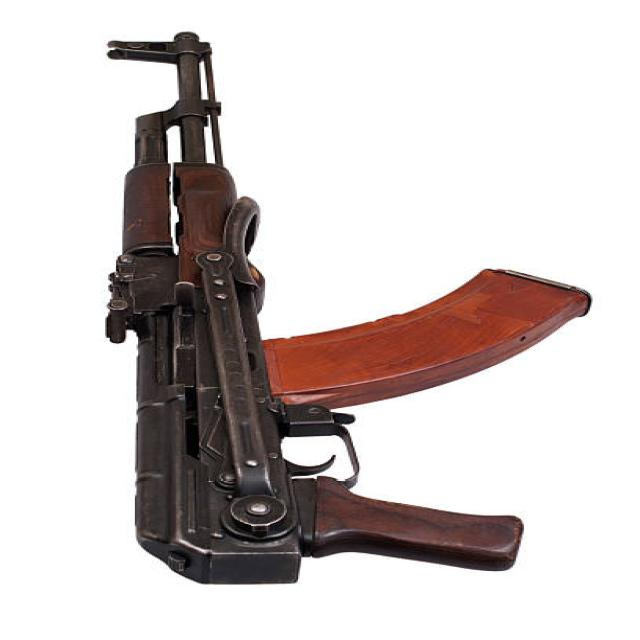rifle: (83, 31, 602, 598)
